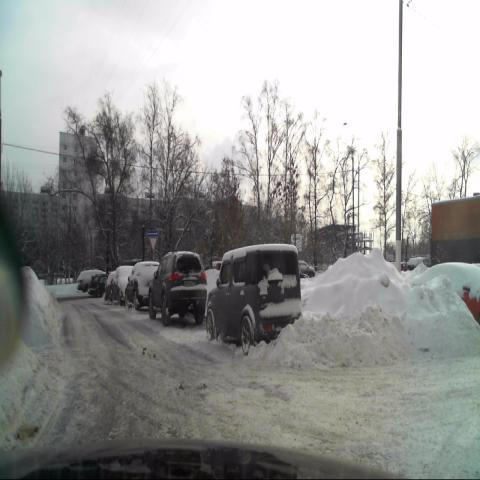2_4: (149, 236, 157, 250)
